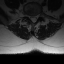CCS_normal: (32, 12, 35, 24)
LFS_normal: (37, 11, 40, 19)
LLS_normal: (35, 12, 37, 22)
RFS_normal: (27, 12, 30, 20)
RLS_normal: (30, 12, 32, 23)
